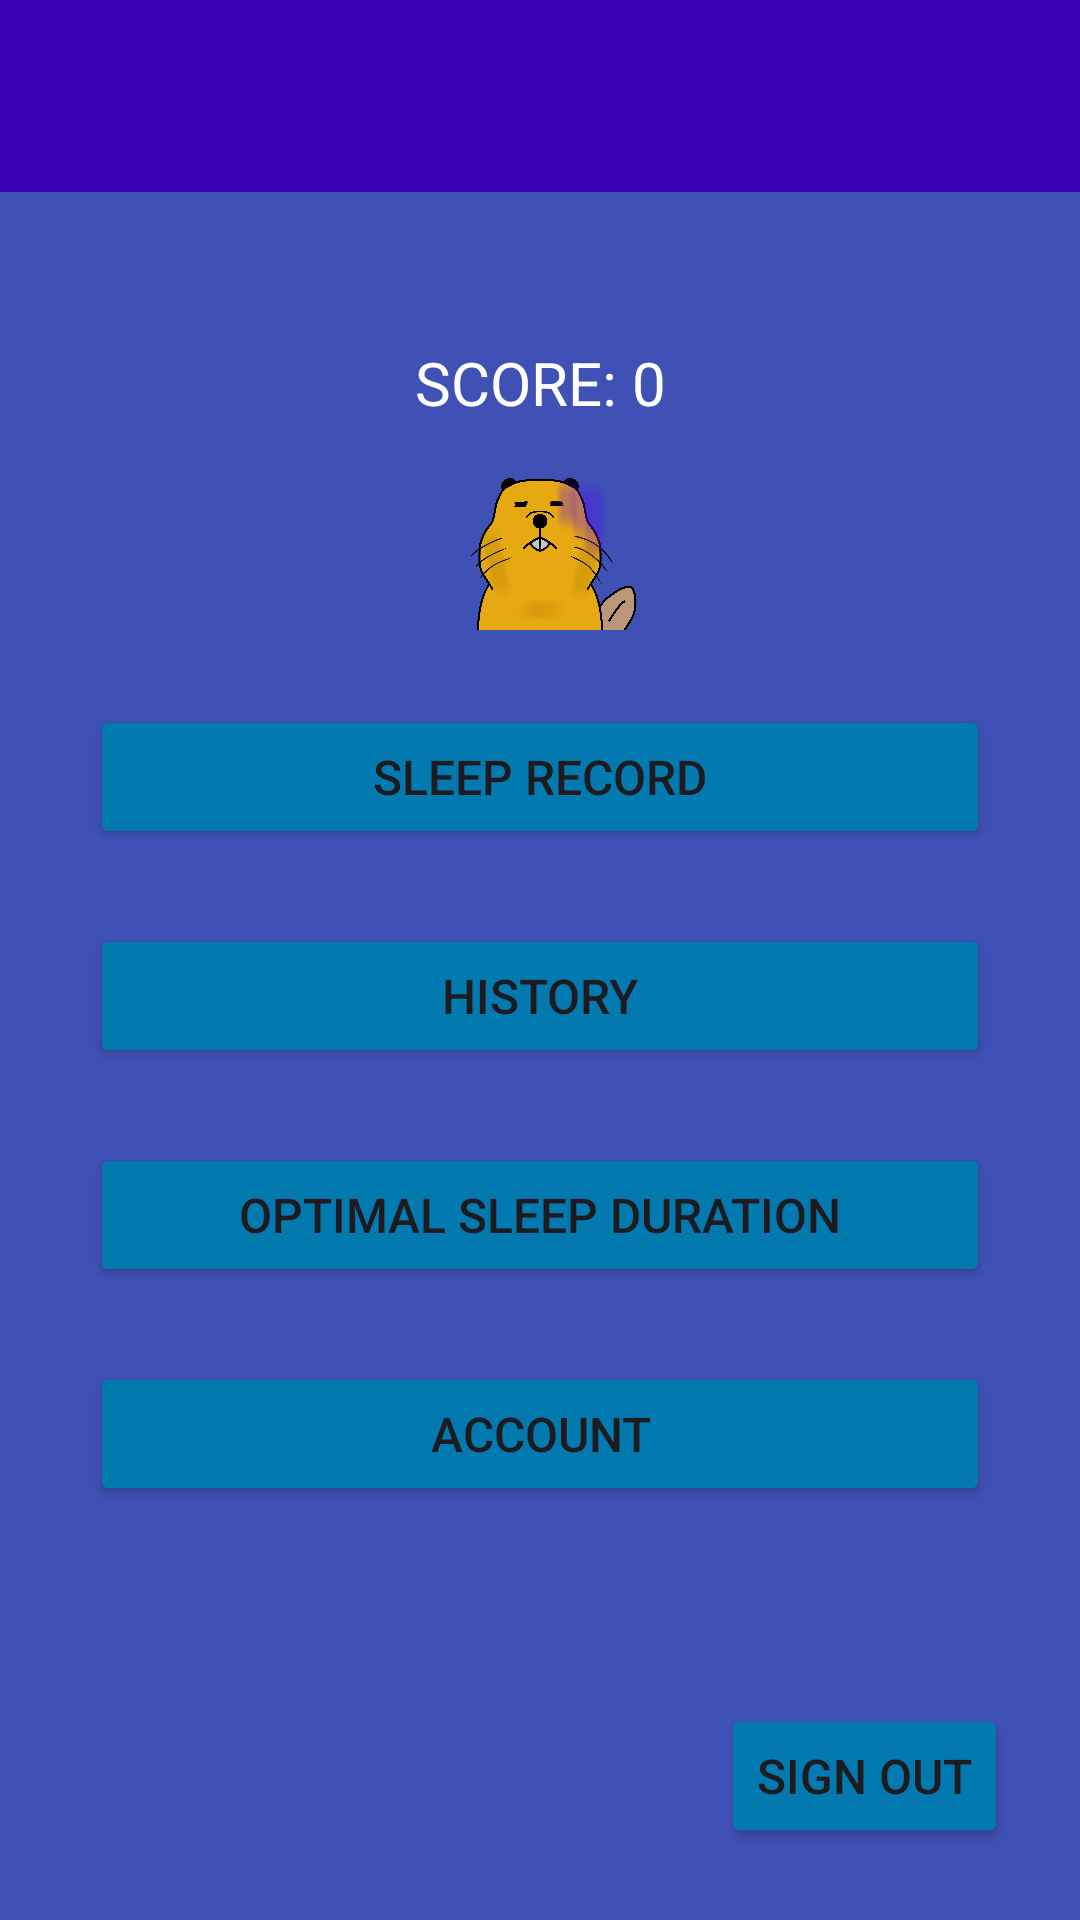

Where to tap for icons on this 1080*1920 app screen, as (x,y):
character: (553,554)
